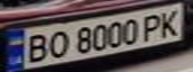0: (121, 16, 145, 45), (90, 21, 112, 52), (106, 18, 127, 48)
8: (72, 24, 93, 55)
B: (18, 31, 51, 64)
K: (157, 7, 187, 38)
O: (42, 28, 69, 60)
P: (139, 11, 169, 42)
